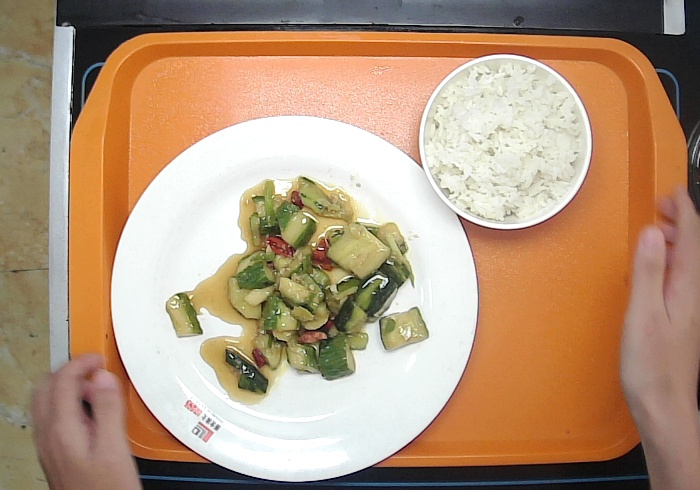ZNLD-Da_Yuan_Pan: (106, 112, 482, 484)
ZNLD-Fan_Wan: (415, 51, 595, 230)
